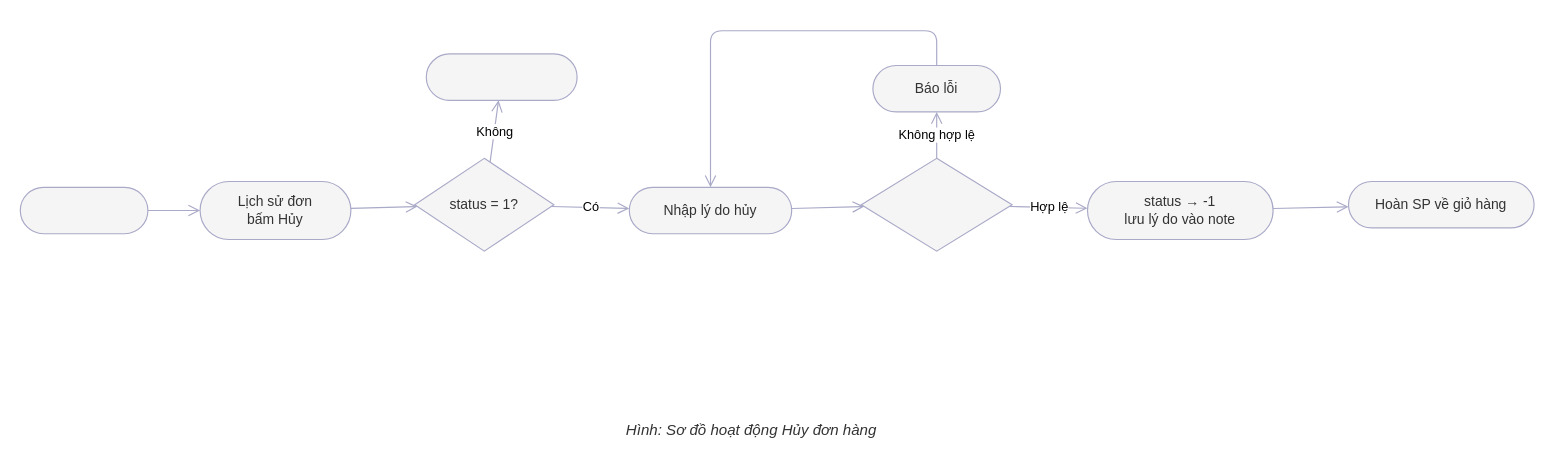
Some shapes in this 1554 by 469 pixel diagram are drawn without their labels. The shapes that lost their labels are listed below. From the top down, each one's centre as x and y in pixels, then its label:
At [501,76]: "Không cho hủy".
At [83,210]: "Khách hàng".
At [936,204]: "Validate min 5 ký tự?".
